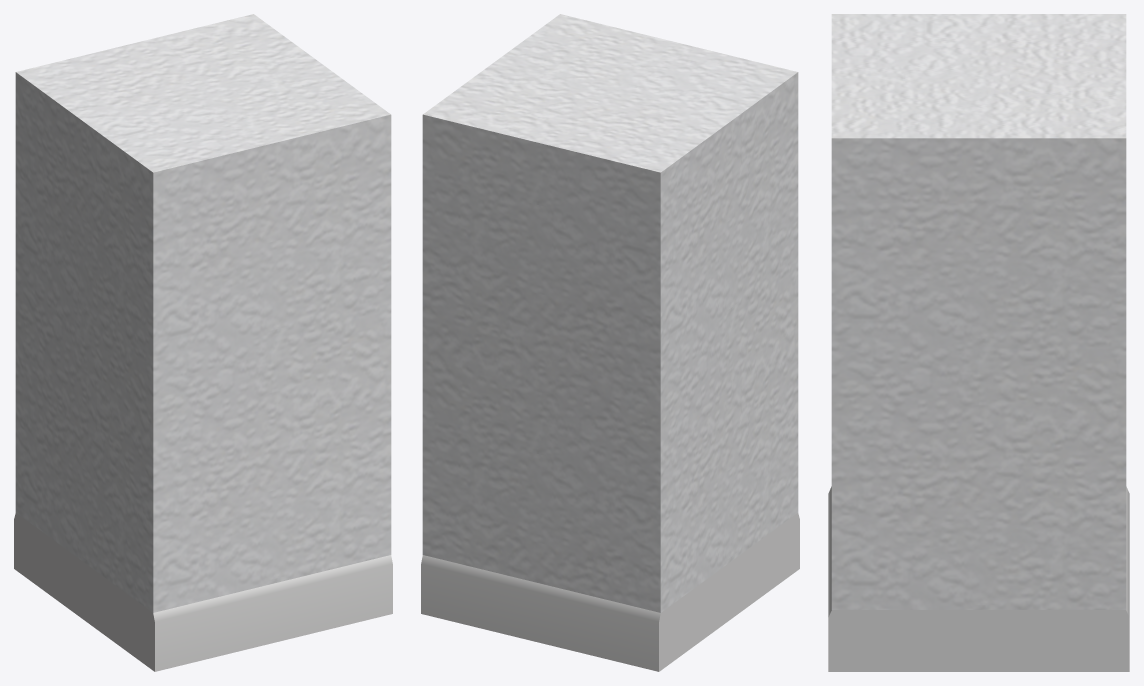
File: scene_wall_plain_2.fbx
The picture shows the model from 3 angles, left to right: view 1: azimuth 30°, elevation 25°; view 2: azimuth 150°, elevation 25°; view 3: azimuth 270°, elevation 25°; orthographic projection. The views are drawn at different scales.
Parts seen in each view (by area): view 1: mesh_wall_plain_2; view 2: mesh_wall_plain_2; view 3: mesh_wall_plain_2.
Boxes of the visible parts, x1=… form: mesh_wall_plain_2: x1=14, y1=14, x2=392, y2=671; mesh_wall_plain_2: x1=421, y1=14, x2=799, y2=671; mesh_wall_plain_2: x1=828, y1=14, x2=1129, y2=671.
Bounding box in the file's own units: 1 × 2 × 1.02.
1 material, 1 textured.
